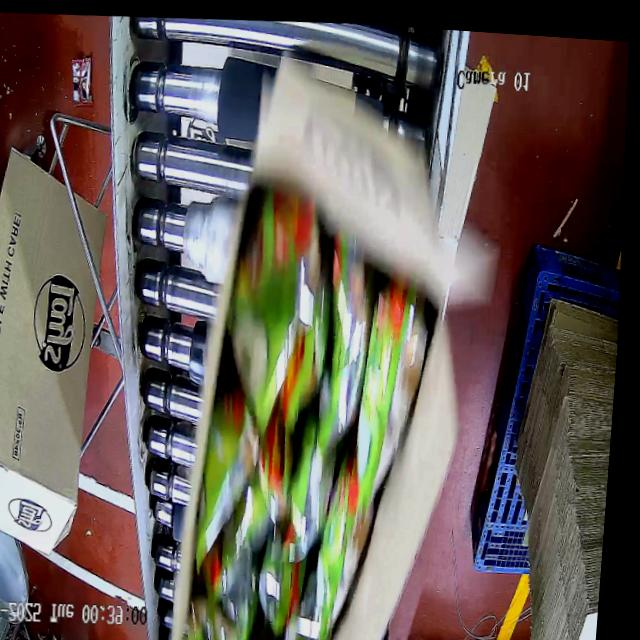YOGURT_HERB: (162, 221, 442, 640)
